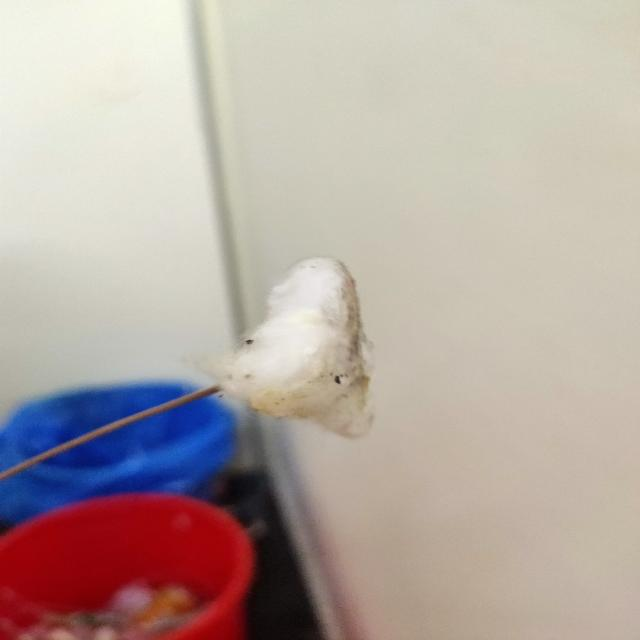B3: (208, 258, 388, 442)
